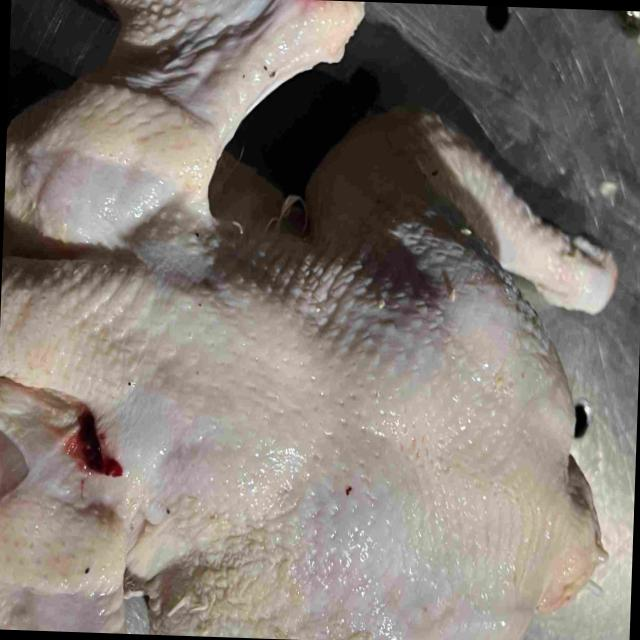back: (104, 253, 612, 640)
leg: (306, 101, 621, 319), (157, 578, 366, 640)
neck: (0, 233, 105, 388)
wing: (3, 0, 369, 265), (0, 391, 132, 634)
